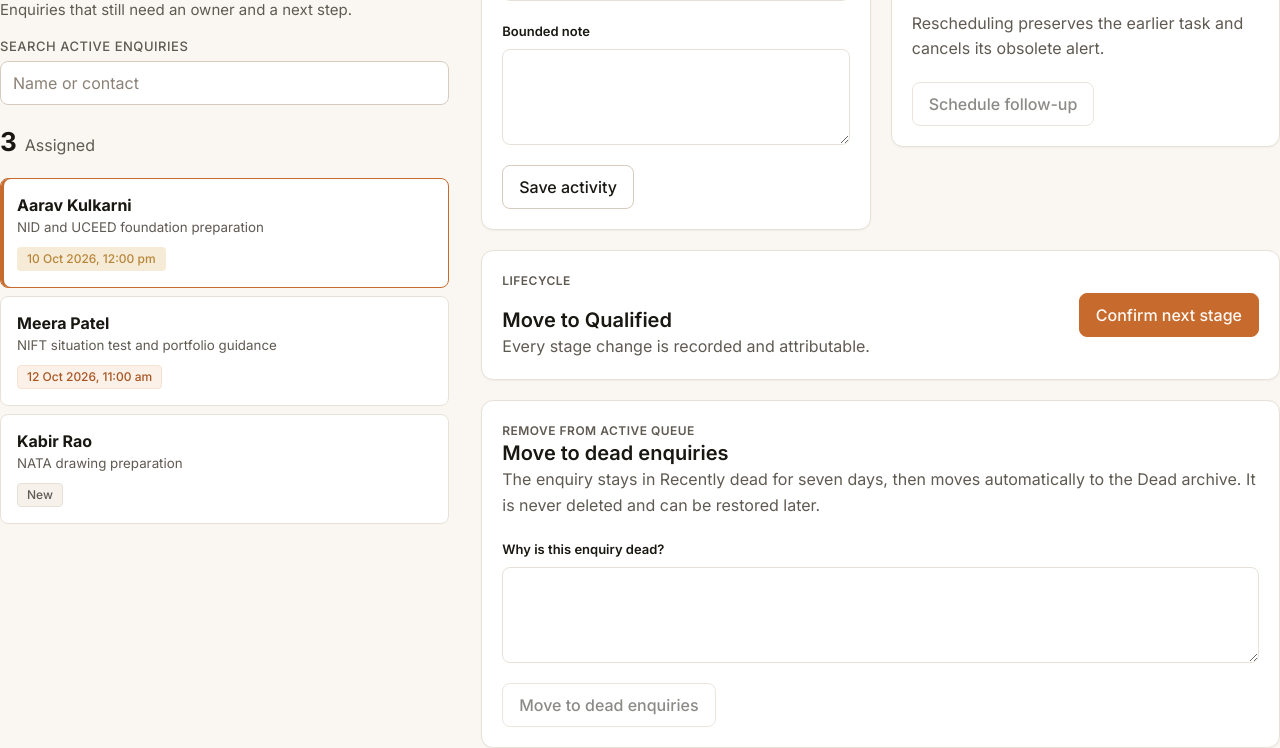
Scenario: CrmWorkspacePage › moves an enquiry to the seven-day dead area and restores the same record
The width and height of the screenshot is (1280, 748).
(page scrolled)
Type "No response after the agreed follow-up period." into the text box labelled "Why is this enquiry dead?" at (881, 615), box [502,567,1259,663]
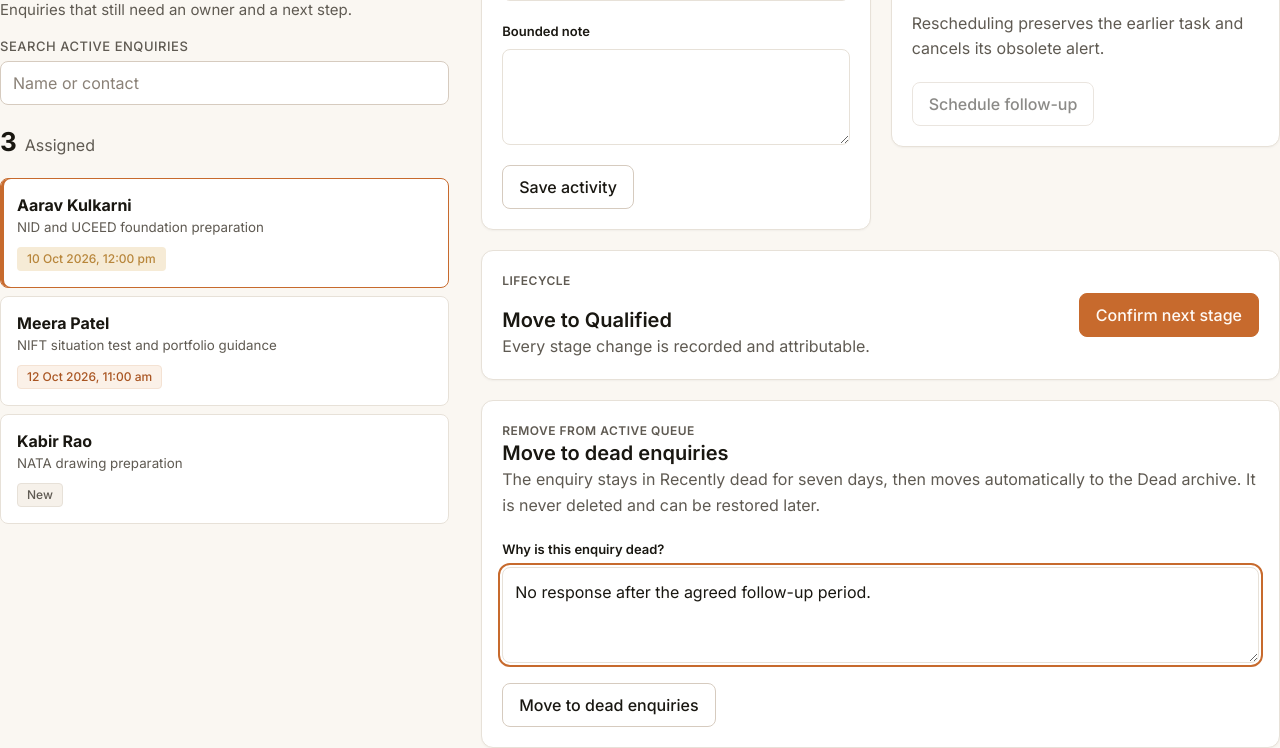
Click the button "Move to dead enquiries" at (609, 705), box [502,683,716,727]
(page scrolled)
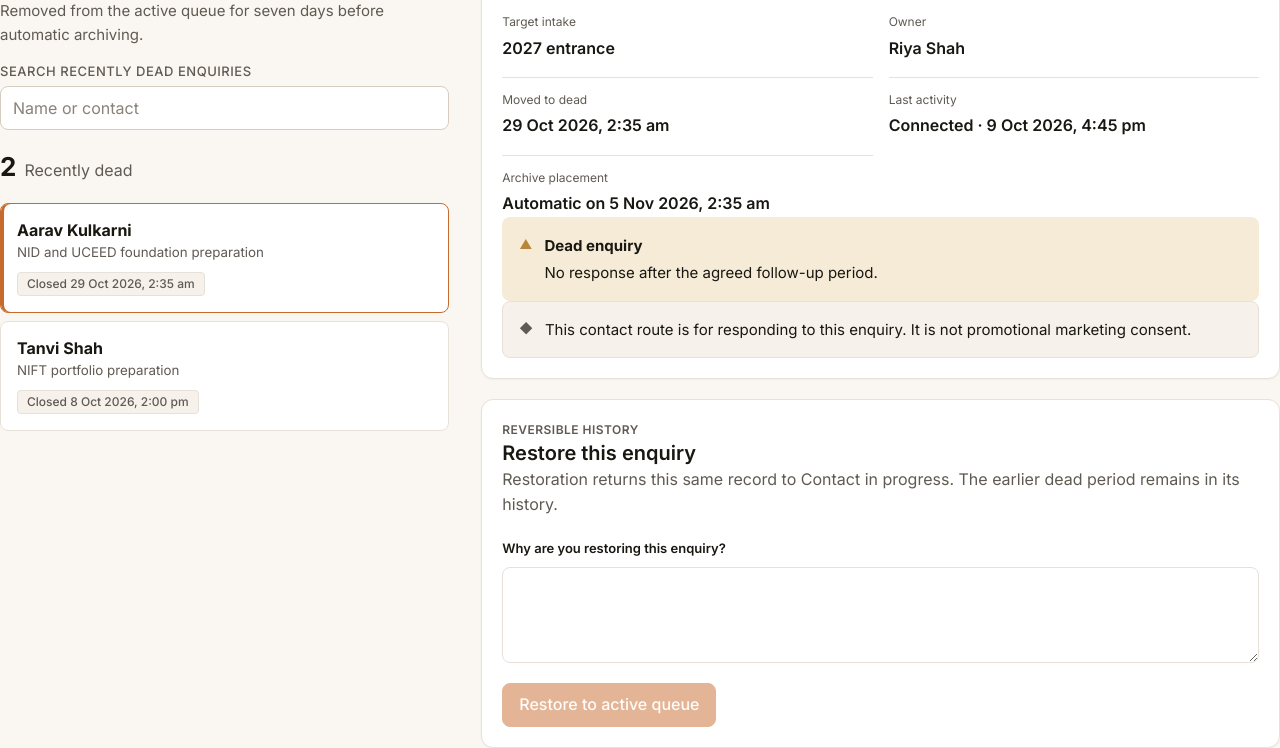
expect the text "Dead enquiry" is shown: met, box [544,236,642,255]
Type "The prospect contacted Dexam again." into the text box labelled "Why are you restoring this enquiry?" at (881, 615), box [502,567,1259,663]
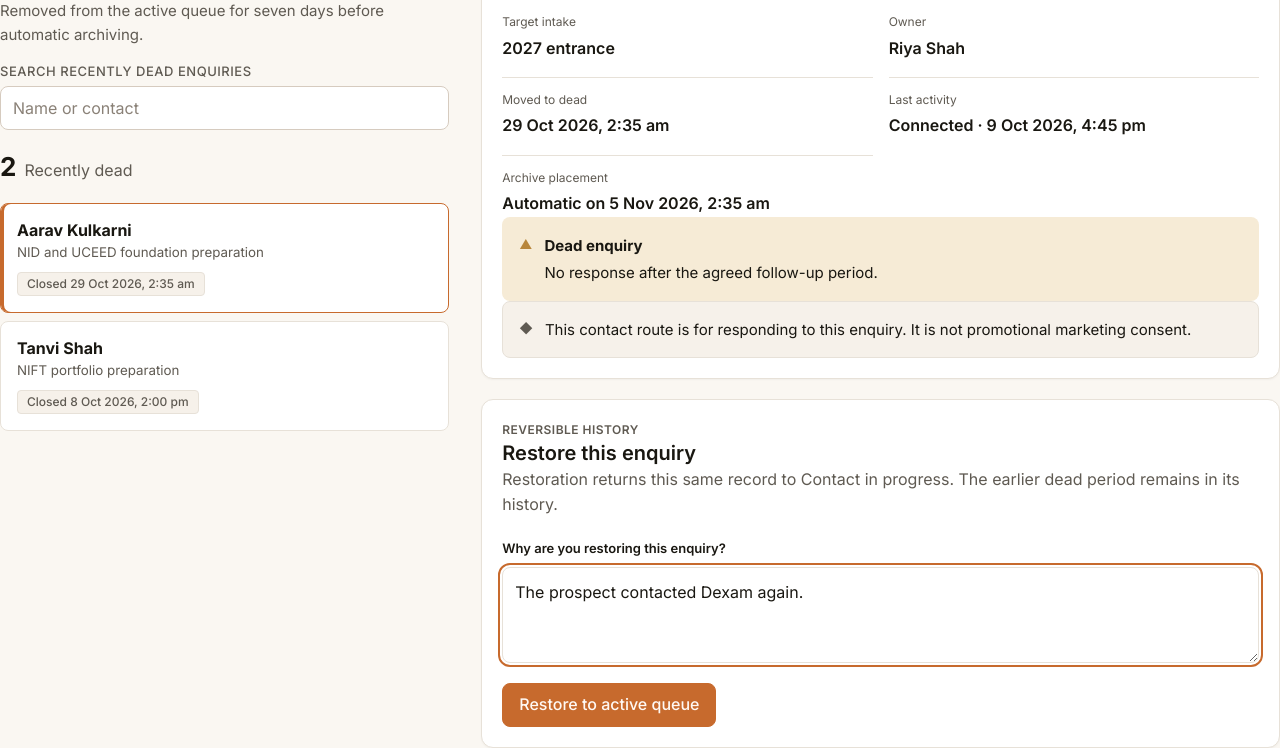
Click the button "Restore to active queue" at (609, 705), box [502,683,716,727]
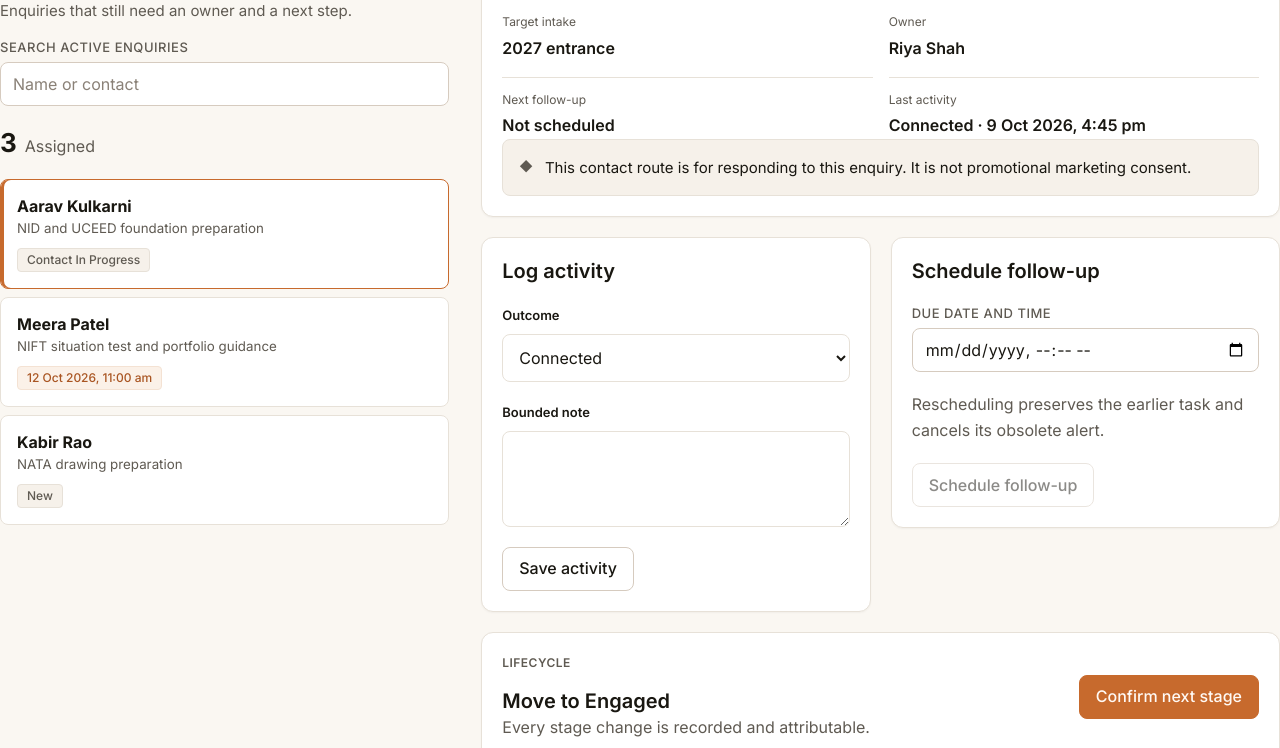
expect the text "Contact In Progress" is shown 2 times: met
expect the heading "Log activity" is shown: met, box [502,259,615,283]
